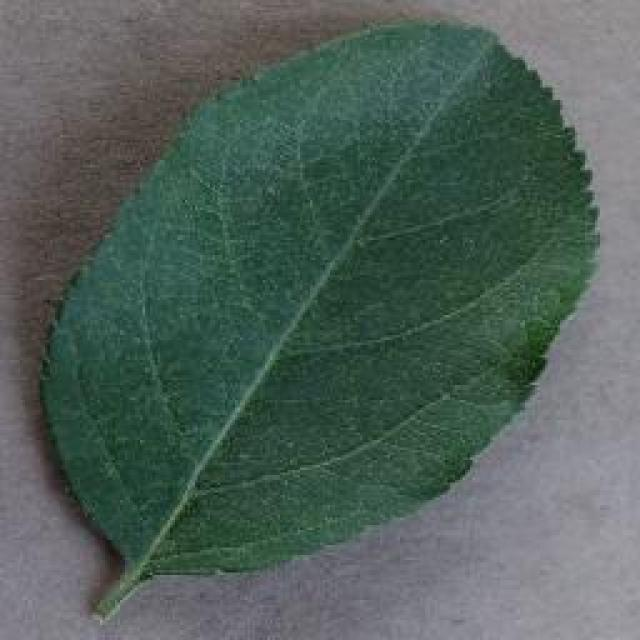apple healthy: (35, 12, 603, 622)
